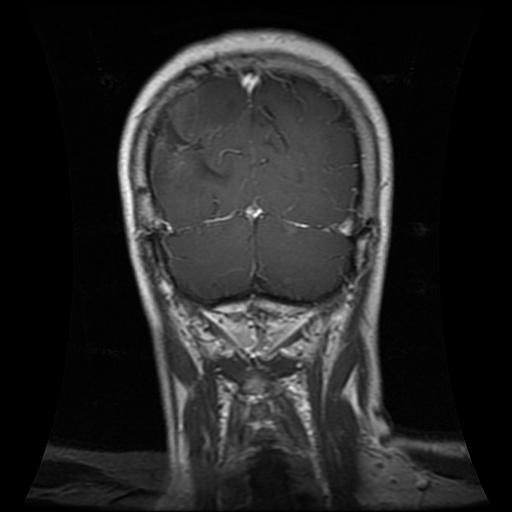glioma: (161, 79, 248, 186)
